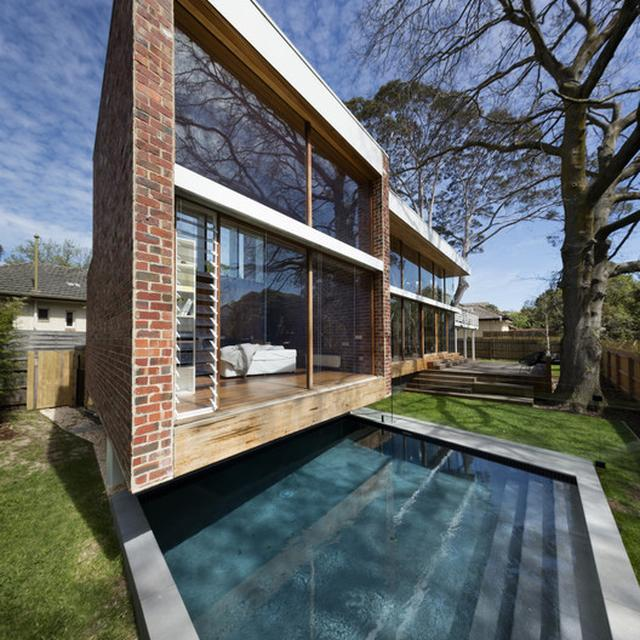building: (83, 3, 468, 478), (1, 247, 90, 368)
